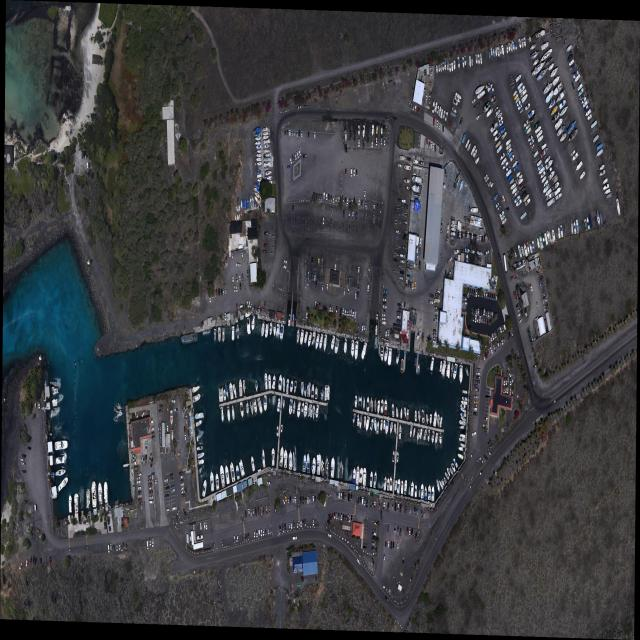ship: (531, 60, 545, 78), (531, 28, 547, 43), (539, 48, 553, 65), (56, 476, 69, 494), (536, 66, 549, 83), (181, 334, 198, 345), (91, 482, 98, 508), (555, 89, 566, 104), (542, 81, 553, 96), (568, 127, 578, 143), (567, 119, 577, 135), (360, 341, 368, 361), (51, 393, 64, 405), (229, 461, 236, 483), (553, 82, 563, 97), (220, 465, 226, 489), (238, 459, 246, 477), (482, 100, 492, 114), (545, 90, 554, 105), (50, 406, 61, 418), (316, 454, 322, 476), (559, 105, 569, 118), (55, 440, 68, 450), (556, 124, 565, 138), (554, 117, 563, 131), (454, 172, 461, 190), (257, 397, 264, 415), (98, 482, 103, 506), (224, 465, 230, 485), (475, 84, 485, 95), (530, 50, 540, 61), (104, 482, 109, 504), (191, 383, 201, 394), (210, 470, 215, 492), (279, 445, 284, 467), (551, 112, 560, 124), (314, 333, 320, 351), (452, 363, 458, 381), (330, 457, 335, 478), (355, 465, 360, 486), (550, 66, 558, 79), (540, 146, 548, 159), (575, 160, 583, 173), (334, 337, 340, 354), (310, 331, 316, 348), (411, 184, 421, 194), (261, 449, 266, 469), (354, 341, 359, 361), (387, 347, 392, 367), (545, 56, 554, 67), (192, 393, 201, 404), (541, 41, 550, 52), (480, 94, 489, 105), (490, 122, 498, 134), (486, 107, 494, 119), (550, 105, 558, 117), (548, 98, 556, 110), (552, 75, 560, 87), (571, 151, 579, 163), (330, 335, 336, 351), (379, 346, 385, 362), (441, 360, 447, 376), (616, 198, 621, 217), (362, 468, 367, 487), (373, 470, 378, 489), (302, 454, 307, 473), (202, 479, 207, 498), (215, 472, 220, 491), (74, 494, 79, 513), (229, 382, 234, 401), (477, 90, 486, 100), (412, 176, 422, 185), (320, 459, 325, 477), (339, 461, 344, 479), (55, 456, 65, 465), (325, 457, 329, 479), (319, 333, 324, 350), (299, 329, 304, 346), (260, 321, 265, 338), (446, 362, 451, 379), (365, 416, 370, 433), (325, 385, 330, 402), (303, 402, 308, 419), (296, 402, 301, 419), (288, 399, 293, 416), (253, 398, 258, 415), (278, 374, 283, 391), (470, 144, 477, 156), (521, 93, 528, 105), (560, 132, 567, 144), (543, 183, 550, 195), (49, 378, 61, 385), (293, 451, 297, 472), (86, 488, 90, 509), (546, 158, 553, 170), (115, 402, 124, 411), (523, 242, 528, 258), (592, 134, 600, 144), (596, 210, 601, 226), (583, 217, 588, 233), (289, 450, 293, 470), (251, 456, 256, 472), (307, 332, 312, 348), (384, 347, 389, 363), (459, 365, 463, 385), (56, 469, 66, 477), (385, 420, 390, 436), (433, 411, 438, 427), (231, 405, 236, 421), (551, 175, 559, 185), (496, 144, 503, 155), (494, 132, 501, 143), (528, 109, 535, 120), (559, 99, 566, 110), (515, 73, 522, 84), (536, 129, 543, 140), (579, 170, 586, 181), (574, 73, 581, 84), (541, 232, 546, 247), (396, 479, 401, 494), (430, 357, 435, 372), (308, 404, 313, 419), (218, 387, 223, 402), (232, 383, 237, 398), (579, 93, 587, 102), (312, 457, 316, 475), (195, 419, 203, 428), (351, 340, 355, 358), (323, 334, 327, 352), (68, 495, 72, 513), (239, 379, 243, 397), (590, 126, 598, 135), (513, 189, 520, 199), (520, 211, 527, 221), (518, 244, 523, 258), (500, 157, 507, 167), (520, 88, 527, 98), (517, 81, 524, 91), (548, 62, 555, 72), (538, 166, 545, 176), (544, 232, 549, 246), (586, 216, 591, 230), (546, 229, 551, 243), (436, 479, 441, 493), (369, 418, 374, 432), (434, 432, 439, 446), (548, 170, 555, 180), (352, 467, 356, 484), (359, 467, 363, 484), (410, 480, 414, 497), (250, 399, 254, 416), (240, 402, 244, 419), (264, 373, 268, 390), (472, 148, 478, 159), (583, 98, 589, 109), (578, 87, 584, 98), (551, 229, 556, 242), (389, 422, 394, 435), (404, 479, 408, 495), (431, 486, 435, 502), (236, 464, 240, 480), (296, 328, 300, 344), (265, 323, 269, 339), (400, 358, 404, 374), (396, 349, 400, 365), (416, 429, 420, 445), (307, 382, 311, 398), (225, 384, 229, 400), (272, 374, 276, 390), (546, 192, 554, 200), (547, 198, 555, 206), (514, 195, 521, 204), (515, 199, 522, 208), (511, 186, 518, 195), (499, 152, 506, 161), (502, 161, 509, 170), (524, 124, 531, 133), (454, 95, 461, 104), (596, 149, 603, 158), (596, 143, 603, 152), (591, 120, 598, 129), (566, 44, 573, 53), (553, 181, 560, 190), (514, 162, 520, 172), (512, 160, 518, 170), (501, 131, 507, 141), (506, 168, 512, 178), (507, 173, 513, 183), (487, 83, 493, 93), (535, 125, 541, 135), (541, 175, 547, 185), (584, 104, 590, 114), (577, 82, 583, 92), (573, 70, 579, 80), (250, 196, 255, 208), (459, 180, 464, 192), (254, 195, 260, 205), (383, 476, 387, 491), (307, 453, 310, 473), (272, 447, 275, 467), (284, 449, 287, 469), (343, 339, 347, 354), (251, 316, 255, 331), (236, 324, 240, 339), (213, 328, 217, 343), (359, 414, 363, 429), (376, 420, 380, 435), (292, 400, 296, 415), (277, 397, 281, 412), (555, 186, 561, 196), (545, 154, 551, 164), (455, 92, 462, 100), (603, 183, 610, 191), (585, 109, 592, 117), (573, 221, 577, 235), (52, 387, 59, 395), (589, 215, 593, 229), (560, 224, 564, 238), (400, 480, 404, 494), (280, 326, 284, 340), (459, 419, 466, 427), (450, 363, 454, 377), (530, 43, 537, 51), (300, 382, 304, 396), (246, 401, 250, 415), (227, 409, 231, 423), (380, 399, 384, 413), (545, 189, 552, 197), (465, 138, 470, 149), (461, 133, 466, 144), (451, 462, 456, 473), (453, 458, 458, 469), (523, 194, 529, 203), (525, 198, 531, 207), (506, 147, 512, 156), (505, 138, 511, 147), (495, 140, 501, 149), (495, 109, 501, 118), (510, 182, 516, 191), (501, 217, 507, 226), (474, 156, 480, 165), (523, 120, 529, 129), (534, 121, 540, 130), (519, 85, 525, 94), (538, 134, 544, 143), (543, 179, 549, 188), (540, 171, 546, 180), (581, 96, 587, 105), (114, 411, 123, 417), (533, 58, 539, 67), (195, 413, 204, 419), (526, 241, 530, 254), (599, 212, 603, 225), (362, 125, 366, 138), (304, 331, 308, 344), (409, 425, 413, 438), (419, 428, 423, 441), (427, 429, 431, 442), (431, 431, 435, 444), (421, 410, 425, 423), (314, 387, 318, 400), (290, 380, 294, 393), (293, 381, 297, 394), (352, 413, 356, 426), (370, 471, 373, 488), (428, 484, 431, 501), (247, 317, 250, 334), (510, 153, 515, 163), (525, 102, 530, 112), (446, 467, 451, 477), (439, 480, 444, 490), (599, 170, 606, 177), (265, 170, 272, 177), (198, 452, 205, 459), (457, 453, 464, 460), (460, 407, 467, 414), (518, 177, 524, 185), (517, 174, 523, 182), (509, 177, 515, 185), (536, 237, 540, 249), (521, 245, 525, 257), (490, 95, 496, 103), (526, 127, 532, 135), (527, 135, 533, 143), (541, 143, 547, 151), (434, 101, 438, 113), (539, 235, 543, 247), (568, 59, 574, 67), (571, 219, 574, 235), (344, 130, 348, 142), (390, 476, 393, 492), (170, 410, 173, 426), (218, 327, 221, 343), (439, 361, 443, 373), (413, 356, 417, 368), (423, 429, 427, 441), (439, 416, 443, 428), (501, 44, 505, 56), (494, 46, 498, 58), (479, 53, 483, 65), (264, 395, 267, 411), (286, 379, 289, 395), (395, 407, 399, 419), (384, 399, 387, 415), (366, 396, 369, 412), (268, 374, 271, 390), (489, 87, 494, 96), (505, 165, 510, 174), (534, 150, 539, 159), (453, 98, 458, 107), (452, 106, 457, 115), (570, 63, 575, 72), (421, 484, 424, 499), (444, 471, 449, 480), (449, 467, 454, 476), (232, 326, 235, 341), (399, 425, 402, 440), (311, 384, 314, 399), (316, 404, 319, 419), (221, 409, 224, 424), (370, 397, 373, 412), (529, 243, 533, 254), (440, 108, 444, 119), (438, 106, 442, 117), (394, 480, 398, 491), (276, 324, 280, 335), (465, 366, 469, 377), (523, 37, 527, 48), (518, 38, 522, 49), (301, 402, 305, 413), (403, 407, 407, 418), (432, 100, 435, 114), (606, 193, 612, 200), (576, 219, 579, 233), (404, 165, 411, 171), (399, 155, 406, 161), (471, 207, 478, 213), (254, 187, 260, 194), (171, 429, 174, 443), (222, 328, 225, 342), (460, 400, 467, 406), (374, 418, 377, 432), (380, 420, 383, 434), (468, 55, 471, 69), (457, 56, 460, 70), (392, 404, 395, 418), (377, 400, 380, 414), (243, 380, 246, 394), (556, 193, 562, 200), (508, 151, 513, 159), (506, 143, 511, 151), (493, 129, 498, 137), (498, 116, 503, 124), (497, 112, 502, 120), (499, 211, 504, 219), (493, 193, 498, 201), (467, 143, 471, 153), (529, 138, 534, 146), (442, 110, 446, 120), (436, 105, 440, 115), (537, 160, 542, 168), (538, 163, 543, 171), (594, 140, 599, 148), (264, 176, 272, 181), (203, 330, 211, 335), (412, 428, 416, 438), (492, 99, 497, 107), (535, 155, 540, 163), (416, 332, 421, 340), (387, 478, 390, 491), (414, 485, 417, 498), (273, 323, 276, 336), (269, 323, 272, 336), (437, 414, 440, 427), (418, 410, 421, 423), (304, 384, 307, 397), (374, 399, 377, 412), (605, 189, 611, 195), (599, 165, 605, 171), (434, 298, 440, 304), (413, 158, 419, 164), (558, 227, 561, 239), (198, 459, 204, 465), (288, 314, 291, 326), (291, 314, 294, 326), (462, 396, 468, 402), (458, 446, 464, 452), (459, 437, 465, 443), (394, 423, 397, 435), (439, 433, 442, 445), (430, 414, 433, 426), (497, 46, 500, 58), (321, 389, 324, 401), (406, 408, 409, 420), (400, 407, 403, 419), (392, 451, 395, 463), (255, 380, 258, 392), (513, 248, 517, 257), (477, 250, 483, 256), (516, 171, 521, 178), (500, 215, 505, 222), (516, 100, 521, 107), (515, 97, 520, 104), (603, 178, 608, 185), (587, 114, 592, 121), (264, 162, 271, 167), (254, 127, 261, 132), (255, 192, 260, 199), (494, 106, 499, 113), (510, 80, 515, 87), (419, 237, 422, 248), (276, 426, 279, 437), (375, 325, 378, 336), (521, 38, 524, 49), (499, 45, 502, 56), (477, 54, 480, 65), (462, 57, 465, 68), (282, 398, 285, 409), (223, 390, 226, 401), (514, 93, 518, 101), (263, 140, 271, 144), (441, 479, 445, 487), (443, 477, 447, 485), (532, 240, 535, 250), (445, 112, 448, 122), (197, 535, 203, 540), (416, 249, 419, 259), (404, 179, 410, 184), (447, 224, 450, 234), (451, 220, 457, 225), (451, 224, 457, 229), (465, 248, 470, 254), (264, 144, 270, 149), (255, 136, 261, 141), (197, 446, 203, 451), (460, 443, 465, 449), (460, 433, 465, 439), (461, 416, 466, 422), (460, 413, 466, 418), (460, 404, 466, 409), (462, 389, 468, 394), (418, 364, 421, 374), (510, 43, 513, 53), (508, 43, 511, 53), (506, 44, 509, 54), (492, 48, 495, 58), (488, 49, 491, 59), (475, 54, 478, 64), (283, 377, 285, 392), (531, 143, 536, 149), (571, 150, 576, 156), (499, 120, 503, 127), (495, 202, 499, 209), (488, 181, 492, 188), (484, 174, 488, 181), (518, 104, 522, 111), (513, 90, 517, 97), (264, 158, 271, 162), (263, 132, 270, 136), (425, 486, 427, 500), (313, 405, 315, 419), (363, 397, 365, 411), (376, 126, 379, 135), (440, 63, 443, 72), (442, 62, 445, 71), (512, 42, 515, 51), (490, 48, 493, 57), (357, 414, 359, 427), (355, 395, 357, 408), (454, 250, 459, 255), (451, 227, 456, 232), (256, 153, 261, 158), (501, 128, 505, 134), (490, 182, 494, 188), (497, 205, 501, 211), (485, 177, 489, 183), (372, 124, 374, 136), (466, 254, 469, 262), (238, 213, 241, 221), (255, 132, 261, 136), (265, 149, 271, 153), (262, 127, 268, 131), (255, 141, 261, 145), (459, 426, 465, 430), (364, 416, 366, 428), (383, 420, 385, 432), (595, 216, 597, 227), (358, 125, 360, 136), (415, 410, 417, 421), (397, 452, 399, 463), (268, 181, 273, 185), (381, 126, 383, 136), (451, 232, 456, 236), (256, 145, 261, 149), (257, 149, 262, 153), (257, 161, 262, 165), (257, 170, 262, 174), (257, 174, 262, 178), (257, 178, 262, 182), (436, 65, 438, 75), (444, 61, 446, 71), (515, 40, 517, 50), (449, 63, 451, 73), (464, 56, 466, 66), (454, 61, 456, 71), (451, 62, 453, 72), (426, 414, 428, 424), (418, 487, 420, 497), (520, 108, 523, 114), (263, 136, 269, 139), (256, 158, 262, 161), (281, 424, 283, 433), (447, 62, 449, 71), (264, 167, 268, 171), (241, 200, 243, 208), (265, 154, 270, 157), (238, 204, 240, 211), (438, 65, 440, 72), (471, 59, 473, 66), (235, 215, 237, 221), (236, 206, 238, 212), (237, 214, 238, 220)
small-vehicle: (459, 118, 463, 126), (484, 250, 489, 256), (476, 114, 481, 120), (448, 258, 452, 265), (298, 149, 302, 156), (507, 370, 511, 377), (357, 558, 361, 565), (34, 399, 37, 408), (504, 207, 509, 212), (472, 432, 477, 437), (362, 141, 365, 149), (472, 98, 476, 104), (224, 312, 227, 320), (205, 522, 208, 530), (141, 411, 145, 417), (184, 508, 187, 516), (494, 332, 497, 340), (503, 323, 506, 331), (530, 284, 533, 292), (399, 528, 402, 536), (484, 455, 488, 461), (385, 596, 389, 602), (34, 558, 37, 565), (19, 563, 22, 570), (500, 195, 503, 202), (414, 105, 417, 112), (444, 170, 447, 177), (572, 82, 575, 89), (294, 153, 297, 160), (296, 151, 299, 158), (252, 509, 255, 516), (104, 522, 107, 529), (347, 494, 350, 501), (508, 331, 511, 338), (495, 343, 498, 350), (493, 345, 496, 352), (490, 346, 493, 353), (501, 325, 504, 332), (509, 387, 512, 394), (402, 556, 405, 563), (400, 271, 405, 275), (404, 204, 408, 209), (474, 104, 478, 109), (429, 299, 433, 304), (236, 263, 241, 267), (328, 533, 332, 538), (151, 458, 153, 468), (476, 375, 481, 379), (516, 303, 520, 308), (517, 308, 521, 313), (552, 400, 556, 405), (380, 205, 382, 214), (502, 195, 505, 201), (290, 158, 293, 164), (292, 155, 295, 161), (282, 498, 285, 504), (141, 456, 144, 462), (122, 515, 125, 521), (485, 352, 488, 358), (498, 328, 501, 334), (490, 336, 493, 342), (347, 514, 349, 523), (480, 470, 483, 476), (468, 485, 471, 491), (108, 545, 110, 553), (24, 544, 28, 548), (39, 534, 43, 538), (404, 301, 406, 309), (399, 276, 403, 280), (414, 281, 416, 289), (402, 246, 406, 250), (396, 230, 400, 234), (403, 220, 407, 224), (407, 157, 411, 161), (397, 311, 401, 315), (373, 204, 375, 212), (345, 144, 347, 152), (358, 139, 360, 147), (376, 138, 378, 146), (397, 319, 401, 323), (383, 305, 387, 309), (393, 117, 397, 121), (463, 301, 467, 305), (434, 306, 438, 310), (430, 294, 434, 298), (436, 290, 440, 294), (236, 274, 238, 282), (236, 303, 238, 311), (264, 244, 268, 248), (352, 309, 354, 317), (376, 314, 378, 322), (246, 300, 248, 308), (248, 300, 250, 308), (264, 301, 266, 309), (318, 302, 320, 310), (171, 399, 175, 403), (269, 506, 271, 514), (293, 536, 297, 540), (268, 481, 272, 485), (138, 498, 142, 502), (137, 480, 141, 484), (145, 441, 147, 449), (123, 542, 125, 550), (155, 479, 157, 487), (172, 506, 176, 510), (180, 475, 184, 479), (170, 472, 174, 476), (166, 486, 170, 490), (165, 493, 169, 497), (166, 508, 170, 512), (476, 372, 480, 376), (475, 315, 477, 323), (517, 313, 521, 317), (484, 417, 488, 421), (380, 511, 382, 519), (483, 424, 487, 428), (366, 500, 368, 508), (383, 502, 385, 510), (400, 504, 402, 512), (406, 185, 409, 190), (474, 388, 479, 391), (474, 396, 479, 399), (511, 276, 514, 281), (513, 290, 516, 295), (371, 539, 376, 542), (40, 557, 42, 564), (32, 557, 34, 564), (30, 557, 32, 564), (49, 557, 51, 564), (110, 543, 112, 550), (412, 282, 414, 289), (381, 138, 383, 145), (457, 232, 459, 239), (467, 232, 469, 239), (477, 234, 479, 241), (483, 235, 485, 242), (478, 290, 480, 297), (411, 103, 413, 110), (413, 104, 415, 111), (418, 108, 420, 115), (424, 70, 426, 77), (433, 118, 435, 125), (232, 275, 234, 282), (209, 295, 211, 302), (212, 292, 214, 299), (346, 309, 348, 316), (348, 309, 350, 316), (350, 309, 352, 316), (354, 311, 356, 318), (357, 290, 359, 297), (352, 211, 354, 218), (328, 194, 330, 201), (250, 301, 252, 308), (324, 261, 326, 268), (318, 259, 320, 266), (306, 312, 308, 319), (343, 288, 345, 295), (334, 263, 336, 270), (263, 508, 265, 515), (261, 508, 263, 515), (255, 509, 257, 516), (250, 509, 252, 516), (248, 509, 250, 516), (263, 529, 265, 536), (248, 534, 250, 541), (233, 536, 235, 543), (200, 523, 202, 530), (340, 493, 342, 500), (324, 499, 326, 506), (285, 524, 287, 531), (307, 497, 309, 504), (302, 497, 304, 504), (300, 496, 302, 503), (285, 494, 287, 501), (126, 543, 128, 550), (177, 508, 179, 515), (344, 493, 346, 500), (350, 495, 352, 502), (509, 378, 511, 385), (504, 378, 506, 385), (507, 333, 509, 340), (503, 336, 505, 343), (501, 338, 503, 345), (499, 339, 501, 346), (488, 348, 490, 355), (487, 350, 489, 357), (483, 354, 485, 361), (503, 386, 505, 393), (481, 317, 483, 324), (492, 333, 494, 340), (500, 327, 502, 334), (507, 386, 509, 393), (394, 526, 396, 533), (387, 525, 389, 532), (390, 542, 392, 549), (349, 516, 351, 523), (338, 513, 340, 520), (357, 497, 359, 504), (359, 497, 361, 504), (362, 497, 364, 504), (364, 498, 366, 505), (370, 501, 372, 508), (397, 504, 399, 511), (405, 507, 407, 514), (414, 508, 416, 515), (22, 462, 25, 466), (26, 560, 28, 566), (35, 505, 37, 511), (22, 470, 26, 473), (21, 458, 24, 462), (22, 455, 26, 458), (398, 303, 401, 307), (384, 289, 388, 292), (406, 280, 408, 286), (408, 281, 410, 287), (398, 198, 401, 202), (420, 162, 424, 165), (432, 144, 434, 150), (397, 316, 401, 319), (345, 169, 347, 175), (356, 170, 358, 176), (382, 321, 386, 324), (385, 330, 387, 336), (459, 233, 461, 239), (461, 232, 463, 238), (465, 232, 467, 238), (471, 234, 473, 240), (471, 250, 475, 253), (445, 270, 447, 276), (449, 270, 451, 276), (421, 75, 423, 81), (435, 310, 438, 314), (435, 293, 439, 296), (442, 126, 444, 132), (239, 275, 241, 281), (241, 253, 243, 259), (241, 305, 244, 309), (247, 271, 249, 277), (263, 250, 267, 253), (264, 232, 268, 235), (292, 206, 294, 212), (303, 154, 307, 157), (289, 130, 291, 136), (294, 130, 296, 136), (296, 131, 298, 137), (234, 285, 236, 291), (225, 287, 227, 293), (23, 501, 27, 504), (216, 289, 218, 295), (221, 289, 223, 295), (347, 198, 349, 204), (314, 132, 316, 138), (345, 309, 347, 315), (358, 267, 360, 273), (343, 211, 345, 217), (342, 308, 344, 314), (340, 307, 342, 313), (307, 273, 309, 279), (298, 105, 301, 109), (304, 105, 308, 108), (283, 265, 286, 269), (314, 301, 316, 307), (400, 260, 404, 263), (258, 508, 260, 514), (245, 511, 247, 517), (265, 529, 267, 535), (236, 536, 238, 542), (193, 525, 195, 531), (184, 426, 186, 432), (278, 477, 281, 481), (338, 493, 340, 499), (282, 525, 284, 531), (291, 523, 293, 529), (314, 496, 316, 502), (309, 497, 311, 503), (305, 497, 307, 503), (159, 404, 163, 407), (159, 409, 162, 413), (139, 502, 143, 505), (138, 473, 142, 476), (151, 435, 155, 438), (152, 431, 155, 435), (150, 421, 154, 424), (109, 525, 111, 531), (121, 546, 123, 552), (152, 472, 155, 476), (148, 476, 152, 479), (174, 451, 176, 457), (180, 483, 184, 486), (181, 491, 185, 494), (181, 494, 185, 497), (171, 489, 175, 492), (171, 485, 175, 488), (170, 477, 174, 480), (149, 501, 153, 504), (150, 490, 153, 494), (149, 486, 152, 490), (342, 493, 344, 499), (502, 372, 504, 378), (497, 341, 499, 347), (477, 368, 480, 372), (476, 380, 479, 384), (474, 401, 478, 404), (473, 412, 477, 415), (511, 380, 513, 386), (505, 386, 507, 392), (477, 317, 479, 323), (479, 317, 481, 323), (514, 294, 517, 298), (516, 296, 519, 300), (519, 319, 522, 323), (533, 365, 537, 368), (486, 395, 489, 399), (372, 543, 376, 546), (373, 532, 376, 536), (374, 522, 377, 526), (343, 515, 345, 521), (340, 514, 342, 520), (334, 513, 336, 519), (411, 529, 413, 535), (372, 502, 374, 508), (374, 502, 376, 508), (392, 504, 394, 510), (421, 511, 423, 517), (423, 511, 425, 517), (361, 200, 363, 205), (390, 329, 392, 334), (426, 139, 428, 144), (351, 200, 353, 205), (479, 236, 481, 241), (476, 291, 478, 296), (484, 292, 486, 297), (409, 102, 411, 107), (441, 219, 443, 224), (301, 132, 303, 137), (291, 131, 293, 136), (338, 197, 340, 202), (322, 285, 324, 290), (313, 497, 315, 502), (136, 414, 138, 419), (158, 426, 160, 431), (185, 487, 187, 492), (489, 312, 491, 317), (473, 316, 475, 321), (483, 318, 485, 323), (485, 319, 487, 324), (397, 543, 399, 548), (385, 542, 387, 547), (351, 516, 353, 521), (345, 516, 347, 521), (409, 508, 411, 513), (28, 447, 31, 450), (407, 274, 410, 277), (419, 260, 420, 269), (398, 213, 401, 216), (399, 164, 402, 167), (399, 308, 402, 311), (372, 139, 373, 148), (383, 302, 386, 305), (382, 318, 385, 321), (393, 323, 396, 326), (398, 324, 401, 327), (464, 294, 467, 297), (433, 341, 436, 344), (433, 337, 436, 340), (433, 334, 436, 337), (434, 319, 437, 322), (287, 165, 290, 168), (284, 260, 287, 263), (268, 474, 271, 477), (174, 408, 177, 411), (138, 491, 141, 494), (137, 477, 140, 480), (151, 428, 154, 431), (179, 472, 182, 475), (181, 487, 184, 490), (165, 479, 168, 482), (150, 496, 153, 499), (149, 483, 152, 486), (474, 404, 477, 407), (474, 408, 477, 411), (372, 548, 375, 551), (39, 401, 40, 409), (351, 169, 352, 177), (354, 168, 355, 176), (388, 328, 389, 336), (431, 68, 432, 76), (355, 290, 356, 298), (362, 323, 363, 331), (330, 304, 331, 312), (266, 506, 267, 514), (268, 527, 269, 535), (246, 533, 247, 541), (305, 519, 306, 527), (138, 495, 142, 497), (152, 539, 153, 547), (147, 541, 148, 549), (180, 480, 184, 482), (362, 546, 366, 548), (332, 513, 333, 521), (364, 190, 365, 197), (384, 138, 385, 145), (431, 142, 432, 149), (447, 236, 448, 243), (486, 292, 487, 299), (232, 253, 233, 260), (236, 285, 237, 292), (226, 256, 227, 263), (219, 289, 220, 296), (323, 217, 324, 224), (331, 218, 332, 225), (349, 211, 350, 218), (356, 212, 357, 219), (321, 194, 322, 201), (324, 192, 325, 199), (259, 301, 260, 308), (312, 258, 313, 265), (327, 284, 328, 291), (349, 277, 350, 284), (275, 506, 276, 513), (254, 531, 255, 538), (204, 523, 205, 530), (294, 521, 295, 528), (293, 496, 294, 503), (288, 497, 289, 504), (146, 455, 147, 462), (108, 517, 109, 524), (150, 539, 151, 546), (506, 378, 507, 385), (489, 319, 490, 326), (388, 541, 389, 548), (388, 503, 389, 510), (395, 504, 396, 511), (37, 530, 40, 532), (429, 142, 430, 148), (410, 282, 411, 288), (377, 205, 378, 211), (435, 145, 436, 151), (359, 199, 360, 205), (384, 295, 387, 297), (383, 299, 386, 301), (383, 314, 385, 317), (482, 236, 483, 242), (468, 288, 469, 294), (464, 298, 466, 301), (478, 309, 479, 315), (433, 330, 436, 332), (437, 121, 438, 127), (439, 123, 440, 129), (354, 199, 355, 205), (113, 545, 114, 551), (240, 283, 241, 289), (242, 274, 243, 280), (299, 131, 300, 137), (308, 131, 309, 137), (368, 286, 369, 292), (364, 324, 365, 330), (326, 194, 327, 200), (331, 196, 332, 202), (336, 195, 337, 201), (345, 198, 346, 204), (336, 306, 337, 312), (322, 256, 323, 262), (307, 281, 308, 287), (332, 306, 333, 312), (401, 255, 404, 257), (482, 310, 483, 316), (484, 310, 485, 316), (486, 311, 487, 317), (261, 530, 262, 536), (259, 530, 260, 536), (256, 531, 257, 537), (185, 435, 186, 441), (303, 520, 304, 526), (337, 492, 338, 498), (280, 526, 281, 532), (289, 523, 290, 529), (297, 521, 298, 527), (313, 520, 314, 526), (295, 497, 296, 503), (290, 497, 291, 503), (488, 311, 489, 317), (138, 487, 141, 489), (119, 544, 120, 550), (117, 545, 118, 551), (167, 425, 168, 431), (148, 480, 151, 482), (475, 385, 478, 387), (492, 312, 493, 318), (393, 542, 394, 548), (384, 554, 385, 560), (373, 536, 376, 538), (409, 529, 410, 535), (336, 513, 337, 519), (416, 533, 417, 539), (379, 503, 380, 509), (417, 509, 418, 515), (463, 233, 464, 238), (496, 295, 497, 300), (474, 309, 475, 314), (476, 309, 477, 314), (349, 199, 350, 204), (285, 131, 286, 136), (287, 130, 288, 135), (223, 289, 224, 294), (333, 197, 334, 202), (343, 197, 344, 202), (316, 282, 317, 287), (348, 289, 349, 294), (301, 522, 302, 527), (398, 527, 399, 532), (407, 528, 408, 533), (383, 310, 385, 312), (441, 229, 442, 233), (435, 316, 438, 317)
